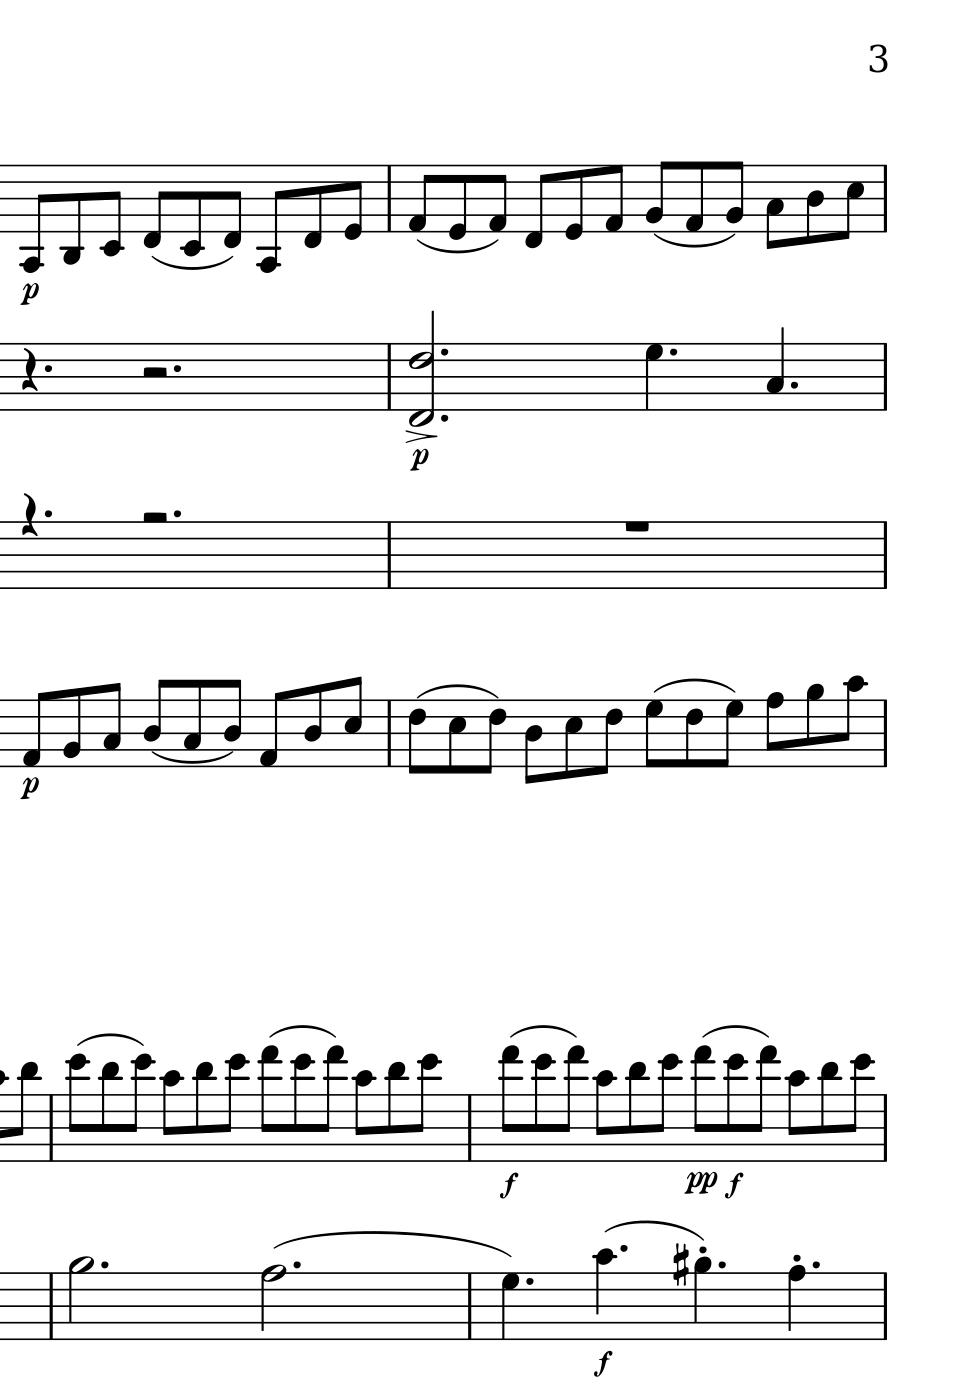2_-1_6: (407, 312, 437, 431)
2_8: (259, 1263, 287, 1343)
2_9: (67, 1255, 95, 1343)
3: (867, 41, 889, 76)
4_10: (591, 1246, 618, 1343)
4_3: (763, 326, 786, 413)
4_7: (498, 1271, 522, 1343), (642, 343, 664, 413)
4_8: (785, 1264, 806, 1343)
4_9: (690, 1255, 713, 1343)
8_-1: (522, 163, 552, 250), (140, 163, 168, 250), (301, 162, 323, 249), (222, 163, 243, 250)
8_-2: (98, 163, 123, 258), (179, 164, 204, 257)
8_-3: (59, 164, 83, 265)
8_-4: (255, 163, 284, 274), (19, 162, 47, 274)
8_0: (561, 163, 585, 242), (342, 163, 365, 242), (447, 163, 468, 241)
8_1: (256, 689, 288, 769), (19, 690, 46, 769), (405, 163, 434, 235), (682, 159, 705, 235), (486, 163, 509, 235), (602, 163, 625, 234)
8_10: (841, 674, 868, 769), (352, 1070, 375, 1164), (785, 1070, 808, 1164), (593, 1070, 616, 1163), (160, 1070, 182, 1163)
8_11: (11, 1062, 39, 1163), (99, 1062, 121, 1164), (193, 1062, 215, 1163), (386, 1062, 408, 1163), (626, 1062, 648, 1163), (819, 1062, 841, 1163)
8_12: (126, 1053, 155, 1164), (413, 1053, 441, 1164), (221, 1052, 248, 1164), (845, 1052, 873, 1163), (654, 1052, 680, 1163), (66, 1053, 89, 1164), (291, 1053, 314, 1163), (532, 1053, 555, 1163), (724, 1053, 747, 1162)
8_13: (751, 1043, 778, 1162), (559, 1046, 587, 1163), (318, 1045, 345, 1162), (692, 1043, 714, 1163), (259, 1043, 280, 1165), (498, 1046, 520, 1163)
8_2: (642, 160, 671, 233), (60, 686, 83, 769), (724, 160, 745, 234)
8_3: (763, 163, 785, 250), (181, 678, 203, 768), (100, 682, 121, 769)
8_4: (142, 678, 169, 769), (522, 698, 543, 787), (222, 678, 242, 769), (303, 683, 323, 768), (804, 163, 824, 245)
8_5: (840, 162, 865, 241), (342, 676, 363, 769), (562, 697, 582, 779), (447, 697, 467, 775)
8_6: (479, 698, 506, 775), (598, 697, 624, 776), (405, 698, 426, 777), (683, 698, 705, 769)
8_7: (715, 697, 743, 769), (643, 698, 664, 769)
8_8: (763, 690, 786, 769)
8_9: (804, 682, 825, 769)
Accent_above: (402, 429, 437, 444)
Rests1: (622, 517, 653, 536)
Rests2: (139, 508, 170, 527), (138, 365, 169, 382)
Rests4: (18, 345, 38, 392), (20, 492, 38, 537)
Sharp: (669, 1241, 689, 1289)
Single_barline: (875, 1271, 895, 1340), (380, 164, 398, 233), (876, 164, 894, 232), (875, 344, 893, 411), (379, 521, 397, 587), (461, 1273, 478, 1339), (381, 344, 397, 411), (877, 1094, 893, 1161), (876, 522, 892, 587), (43, 1273, 59, 1338), (876, 700, 892, 765), (461, 1096, 477, 1160), (382, 700, 397, 767), (43, 1096, 58, 1160)
Slur: (273, 1230, 515, 1260), (606, 1216, 705, 1243), (414, 682, 501, 700), (651, 677, 736, 695), (415, 238, 498, 255), (652, 232, 735, 248), (151, 255, 232, 270), (267, 1023, 338, 1041), (700, 1023, 771, 1041), (148, 750, 232, 764), (508, 1024, 579, 1040), (75, 1032, 145, 1048)
dot: (170, 361, 183, 375), (97, 1258, 110, 1271), (666, 345, 679, 359), (523, 1274, 535, 1289), (437, 345, 450, 358), (171, 507, 183, 521), (290, 1259, 302, 1273), (41, 508, 54, 521), (618, 1242, 630, 1256), (810, 1259, 822, 1273), (438, 411, 450, 424), (42, 362, 53, 375), (716, 1258, 727, 1271), (788, 379, 798, 392)
f: (494, 1171, 522, 1203), (590, 1349, 615, 1379), (724, 1172, 745, 1201)
p: (17, 775, 40, 805), (19, 280, 41, 308), (407, 448, 428, 474)
pp: (682, 1169, 720, 1199)
